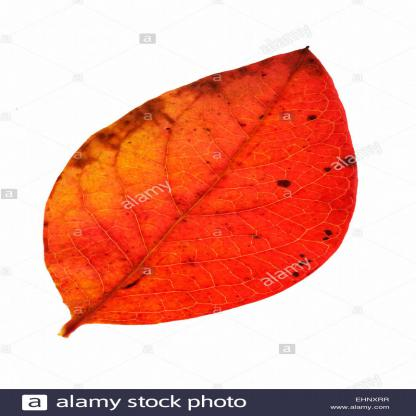Blueberry leaf: (32, 39, 367, 363)
